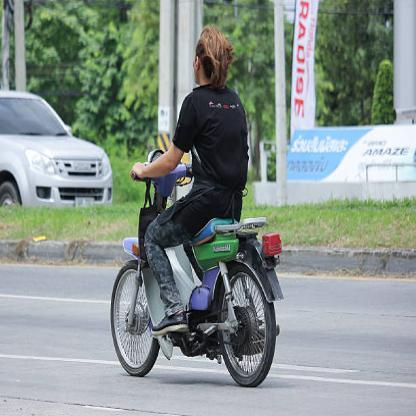Motorcycle: (112, 144, 284, 387)
